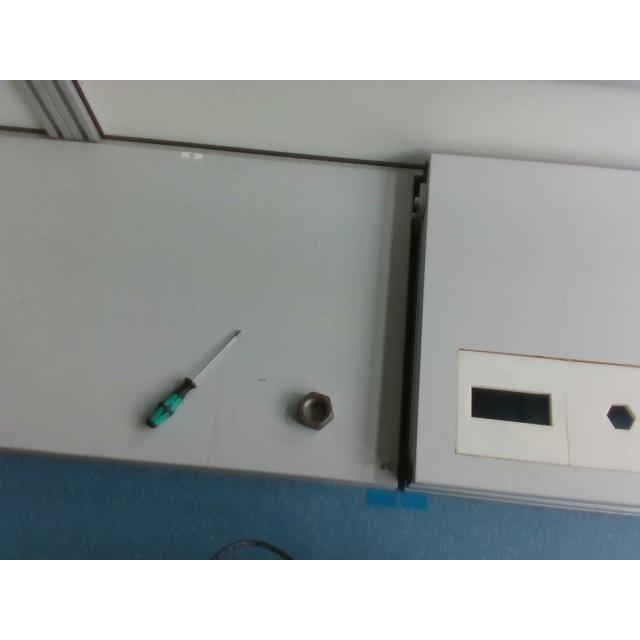M30: (294, 391, 334, 429)
Screwdriver: (144, 329, 240, 425)
